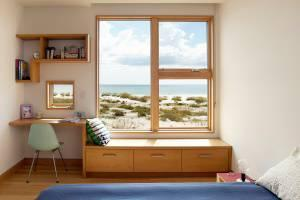window: (93, 15, 213, 134)
